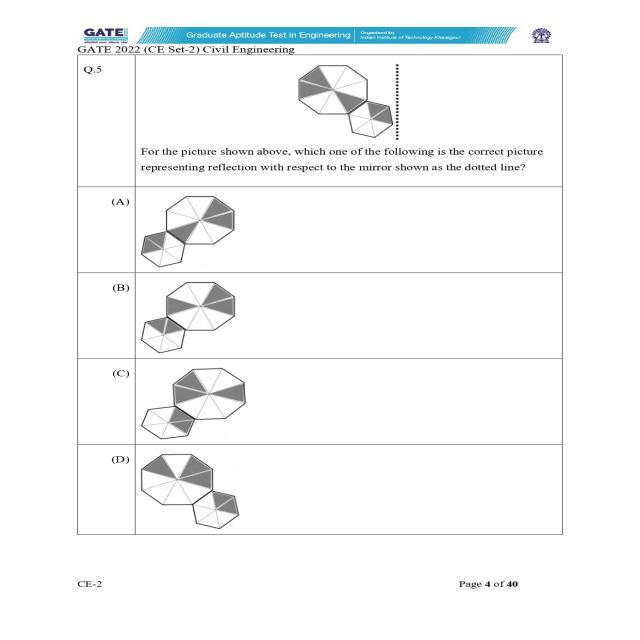Answer_Block: (41, 189, 587, 549)
Question_Answer_Block: (41, 50, 587, 549)
Question_Block: (41, 50, 587, 186)
Question_Paper_Area: (41, 50, 587, 549)
